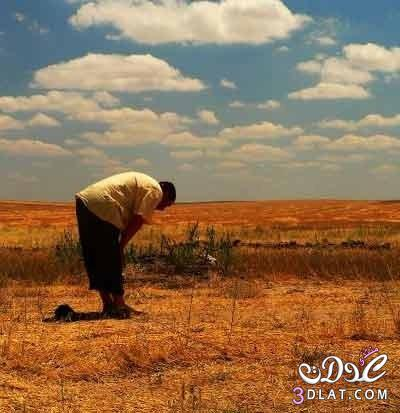ruku: (48, 156, 197, 331)
